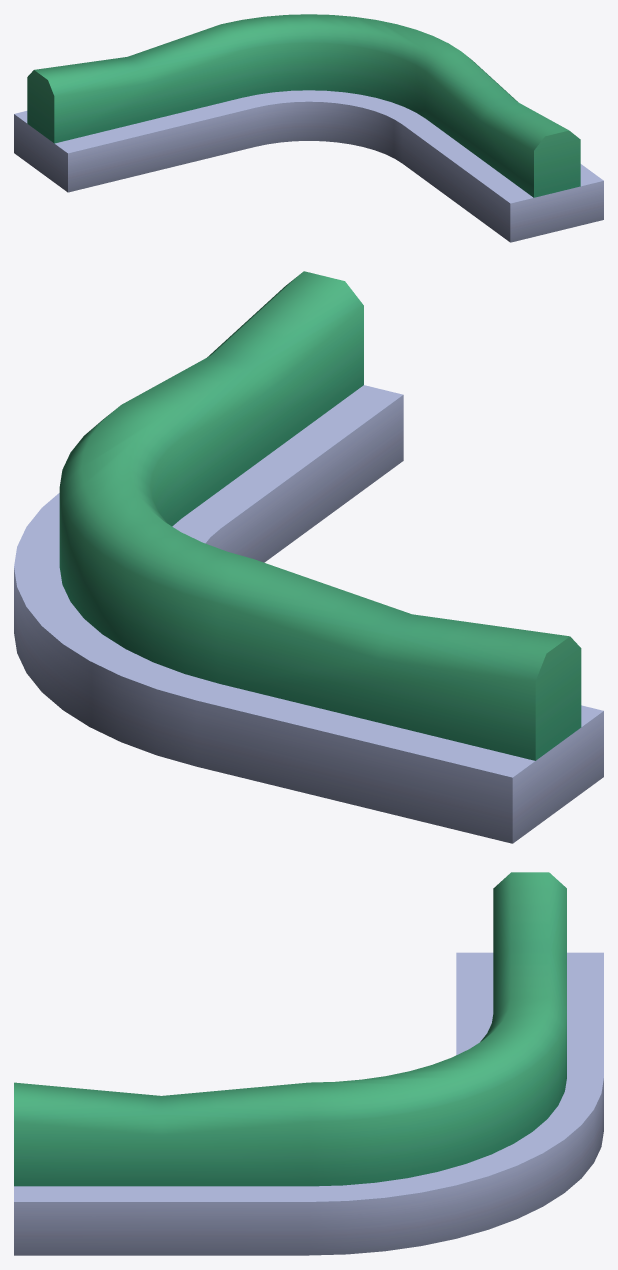
Rendered from hedge-curved.glb.
3 views of the same model, one above another, from view 1: azimuth 30°, elevation 25°; view 2: azimuth 150°, elevation 25°; view 3: azimuth 270°, elevation 25° (orthographic). The views are drawn at different scales.
Visible parts, largest first — view 1: hedge-curved; view 2: hedge-curved; view 3: hedge-curved.
Boxes of the visible parts, x1,y1,x2,y2 form: hedge-curved: [14, 14, 603, 242]; hedge-curved: [14, 271, 603, 843]; hedge-curved: [14, 872, 603, 1255].
Bounding box in the file's own units: 1 × 0.25 × 1.
1 material, 1 textured.
